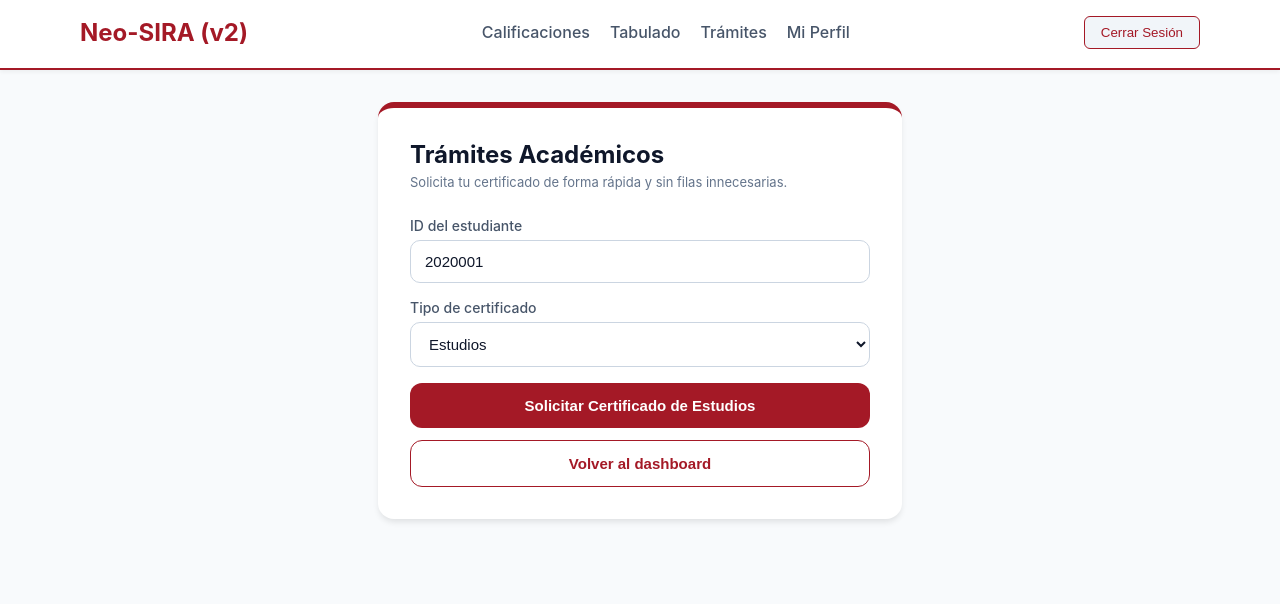
Test: Componente Tramites › muestra una validación si faltan datos del formulario
Clear the field with test id "tramites-student-id": [640, 261] box [410, 240, 870, 282]
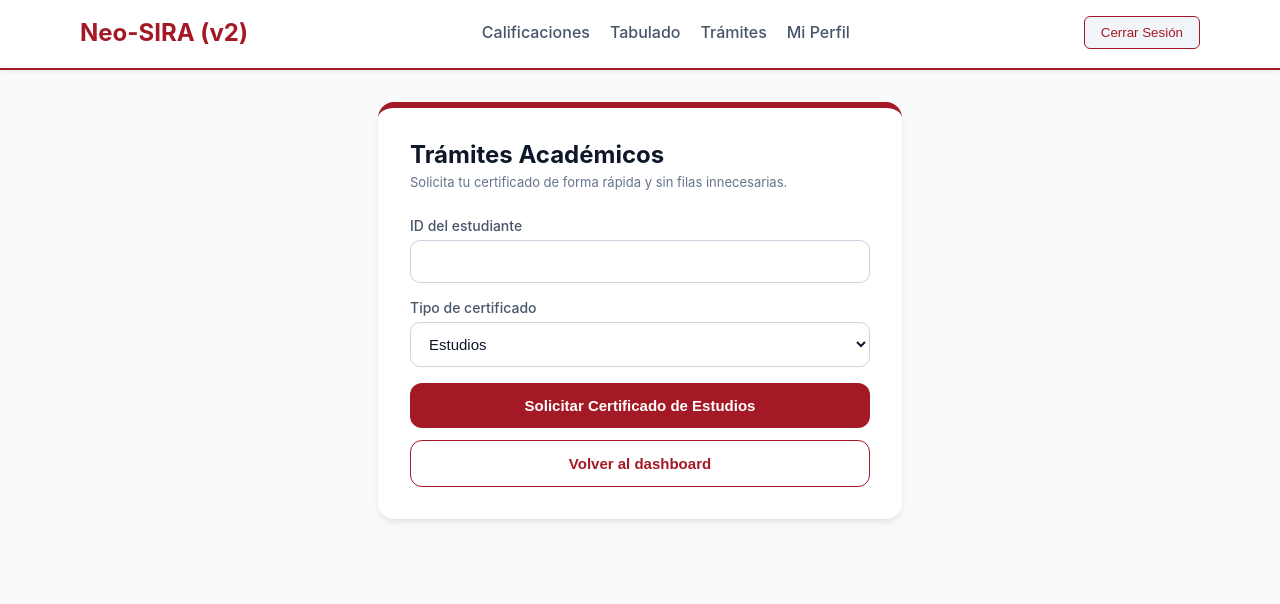
Click the button with test id "tramites-submit": [640, 405] box [410, 382, 870, 428]
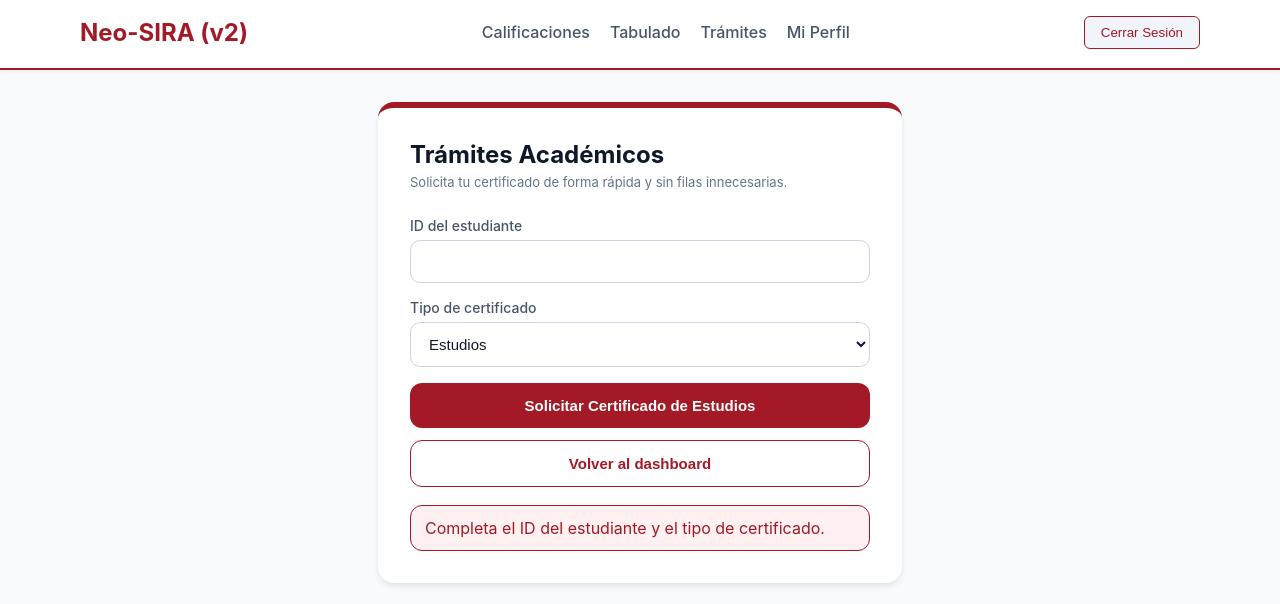
Expected: the message with test id "tramites-message" reads "Completa el ID del estudiante y el tipo de certificado.", [425, 518, 825, 538]
